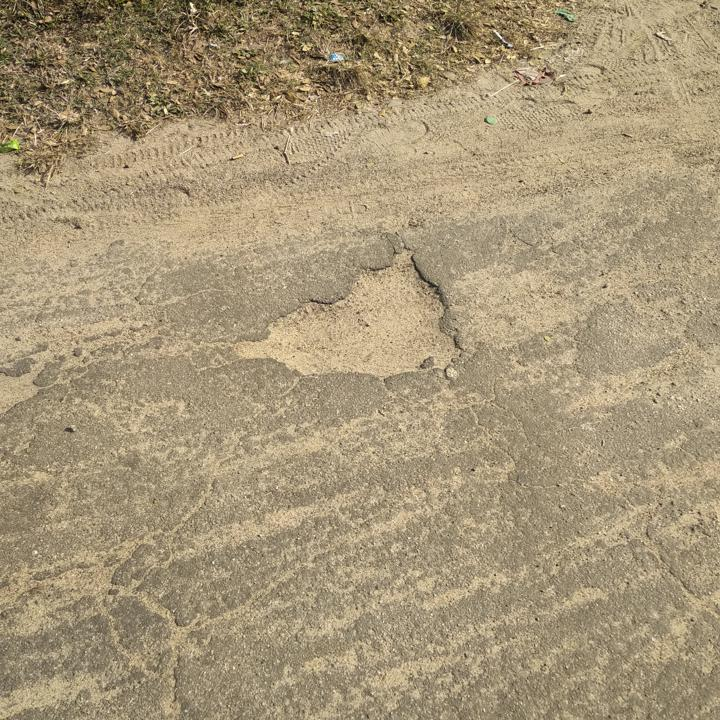pothole: (231, 241, 467, 385)
